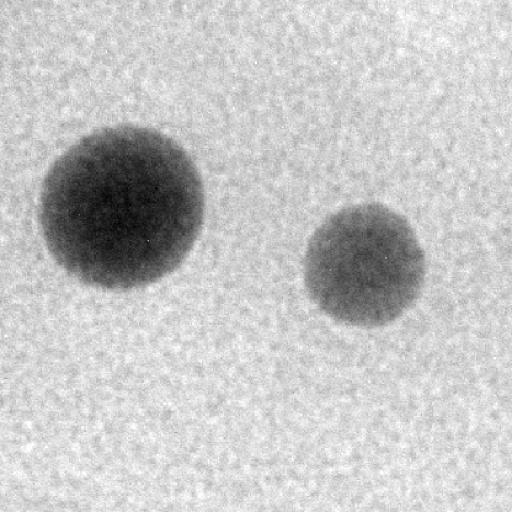Nanoparticles: (36, 122, 209, 294), (302, 200, 430, 332)
